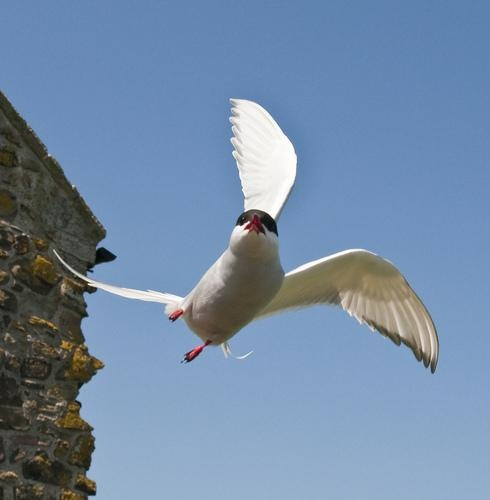bird: (41, 91, 441, 374)
